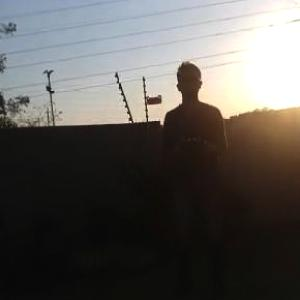follow: (158, 52, 232, 299)
